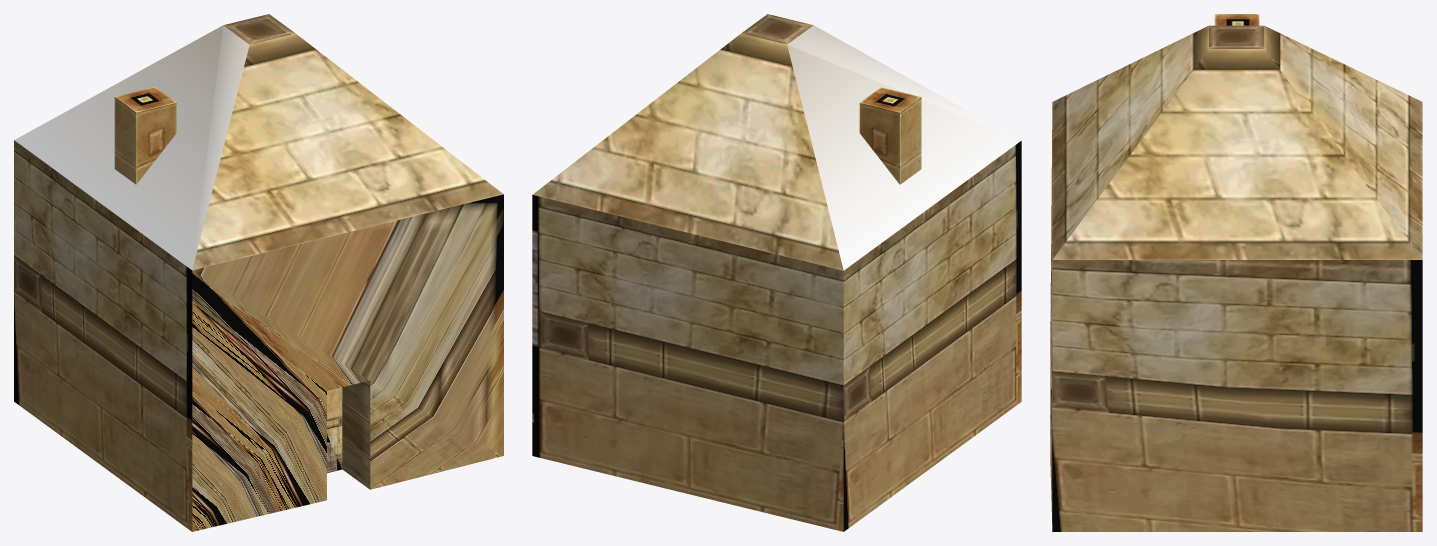
The model's file is DesertTown - house - M1_col.fbx.
The picture shows the model from 3 angles, left to right: view 1: azimuth 30°, elevation 25°; view 2: azimuth 150°, elevation 25°; view 3: azimuth 270°, elevation 25°; orthographic projection. The views are drawn at different scales.
Parts seen in each view (by area): view 1: DesertTown_house_M1_col; view 2: DesertTown_house_M1_col; view 3: DesertTown_house_M1_col.
Part boxes in pixels (x1,y1,x2,y2): DesertTown_house_M1_col: (14,14,503,531); DesertTown_house_M1_col: (532,14,1021,531); DesertTown_house_M1_col: (1050,14,1422,531).
Bounding box in the file's own units: 5.45 × 6.69 × 5.42.
